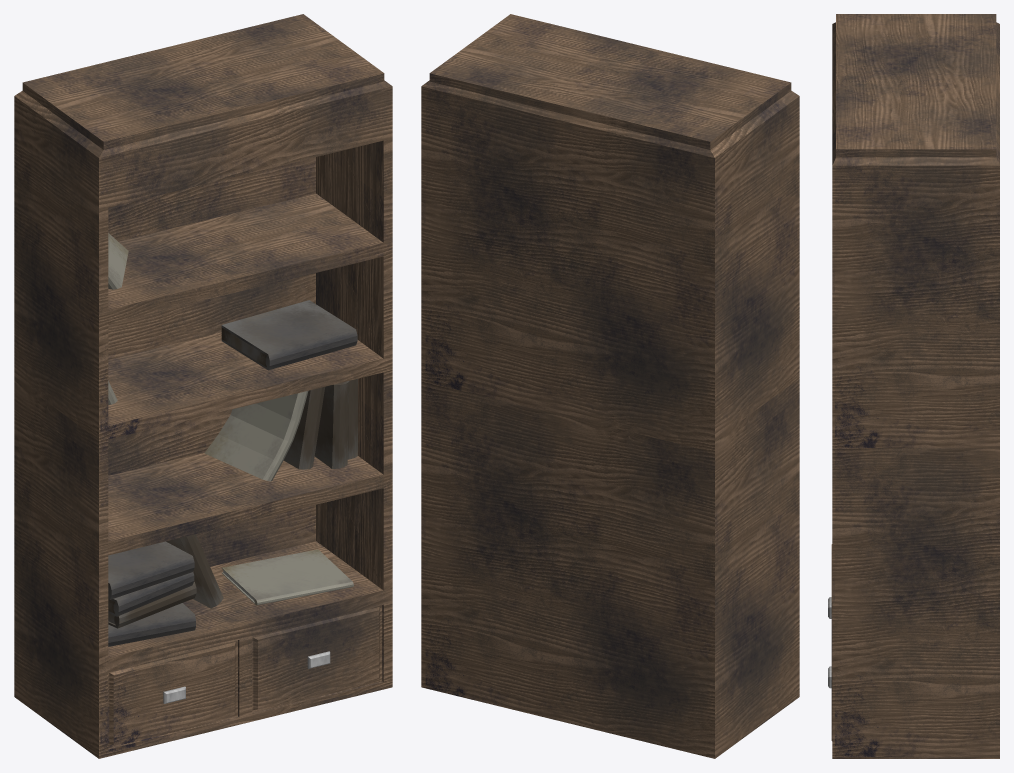
Rendered from 장애물_책장 1.fbx.
3 renders of one model, left to right at view 1: azimuth 30°, elevation 25°; view 2: azimuth 150°, elevation 25°; view 3: azimuth 270°, elevation 25°, orthographic.
Visible parts, largest first — view 1: 책장; view 2: 책장; view 3: 책장.
Boxes of the visible parts, bbox=[...] form: 책장: bbox=[14, 14, 392, 758]; 책장: bbox=[421, 14, 799, 758]; 책장: bbox=[828, 14, 999, 758].
Bounding box in the file's own units: 100 × 200 × 51.32.
